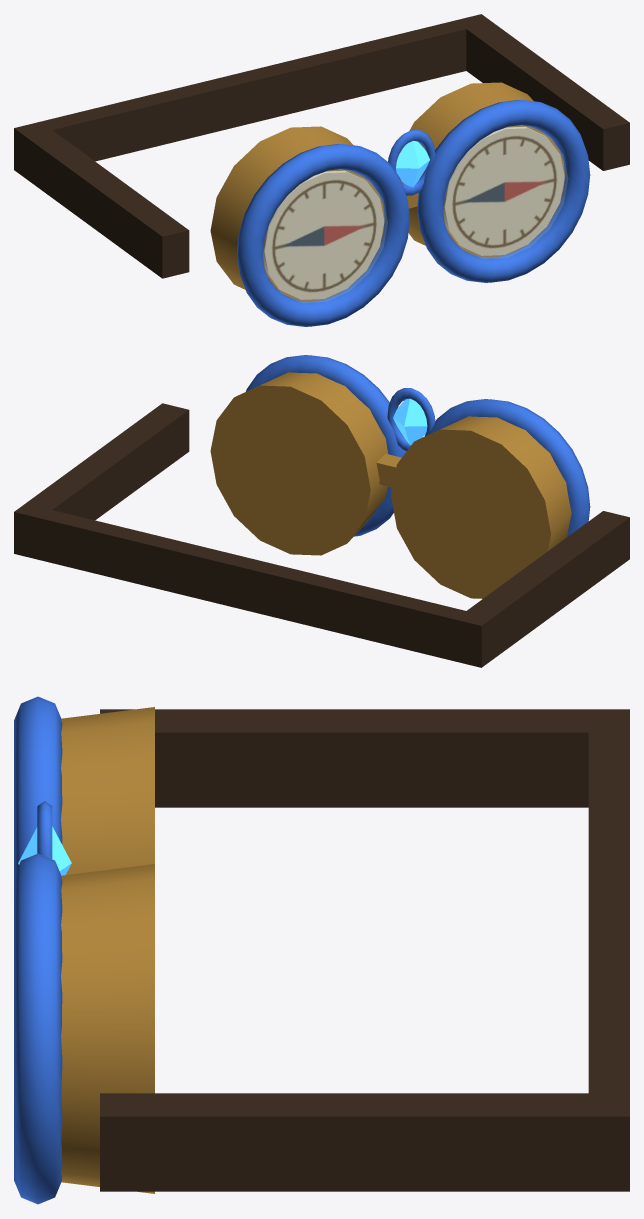
The model's file is gl_eqsa1.glb.
The picture shows the model from 3 angles, top to bottom: view 1: azimuth 30°, elevation 25°; view 2: azimuth 150°, elevation 25°; view 3: azimuth 270°, elevation 25°; orthographic projection. The views are drawn at different scales.
Bounding box in the file's own units: 2.16 × 0.7854 × 1.38.
7 materials, 2 textured.
